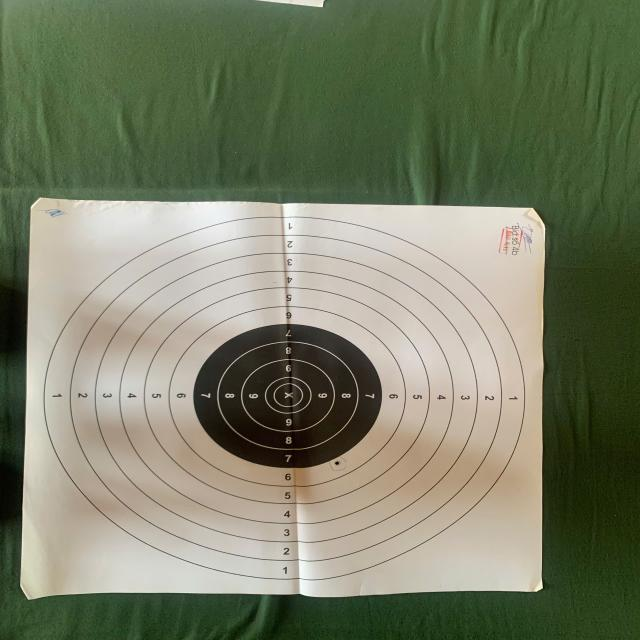bullet: (335, 461, 339, 464)
target: (20, 196, 544, 600)
